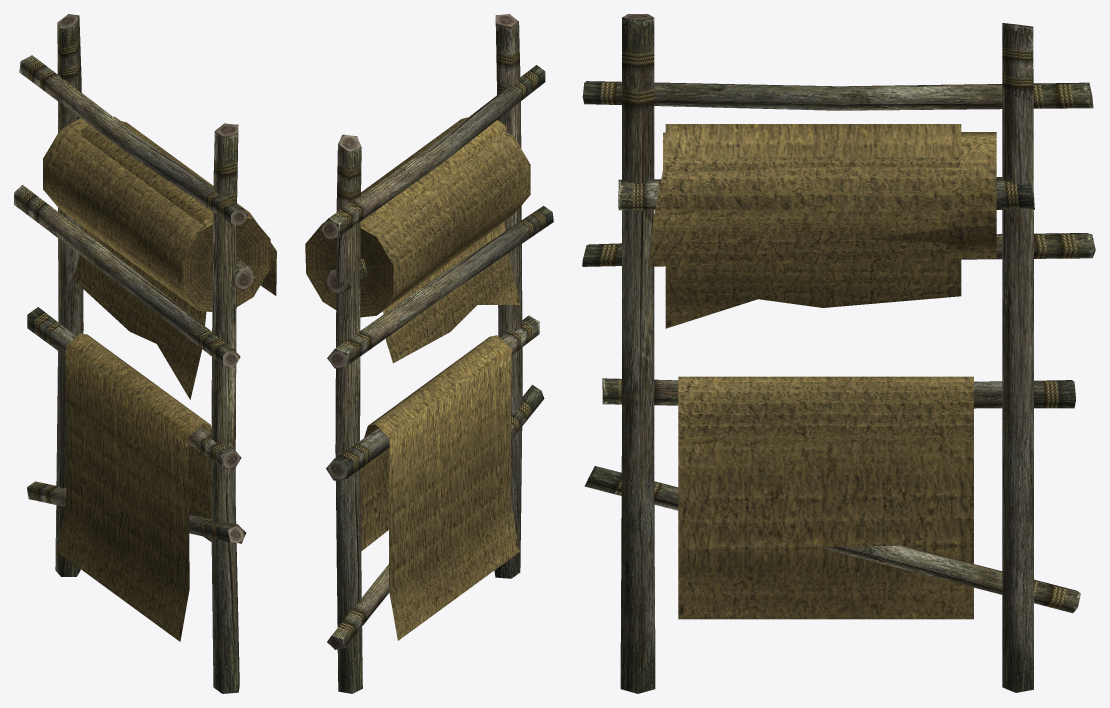
File: thing_hake_06.fbx
3 renders of one model, left to right at view 1: azimuth 30°, elevation 25°; view 2: azimuth 150°, elevation 25°; view 3: azimuth 270°, elevation 25°, orthographic. The views are drawn at different scales.
Parts seen in each view (by area): view 1: thing_hake_06; view 2: thing_hake_06; view 3: thing_hake_06.
Part boxes in pixels (box(x1,y1,x2,y2)): thing_hake_06: box(14, 14, 276, 693); thing_hake_06: box(305, 14, 553, 693); thing_hake_06: box(582, 14, 1095, 693).
Size of the model in its own units: 1.3 by 7.6 by 5.25.
